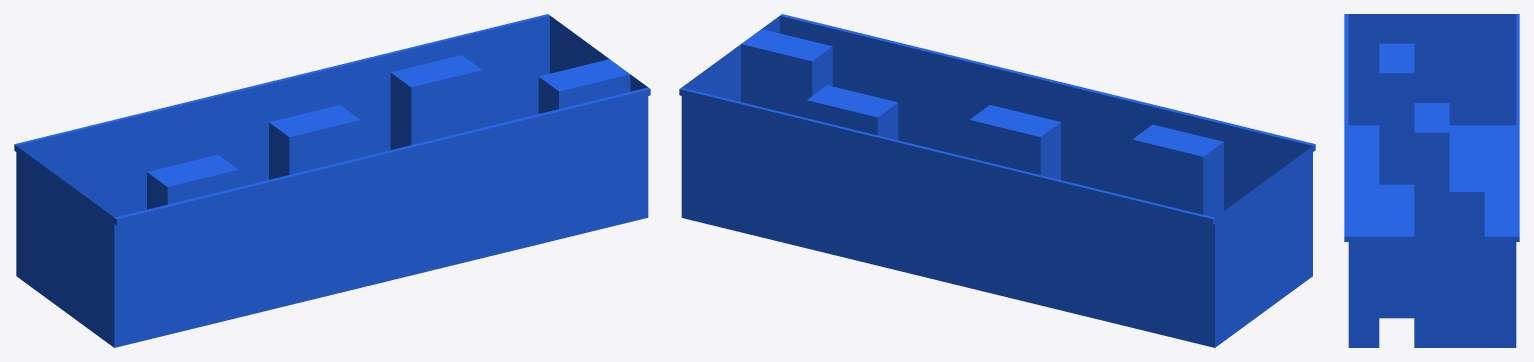
File: Islands 1.fbx
The picture shows the model from 3 angles, left to right: view 1: azimuth 30°, elevation 25°; view 2: azimuth 150°, elevation 25°; view 3: azimuth 270°, elevation 25°; orthographic projection. The views are drawn at different scales.
Visible parts, largest first — view 1: Box002; view 2: Box002; view 3: Box002.
Boxes of the visible parts, <box> form: Box002: <box>14,14,650,347</box>; Box002: <box>679,14,1315,347</box>; Box002: <box>1344,14,1519,347</box>.
Bounding box in the file's own units: 709 × 165 × 236.
